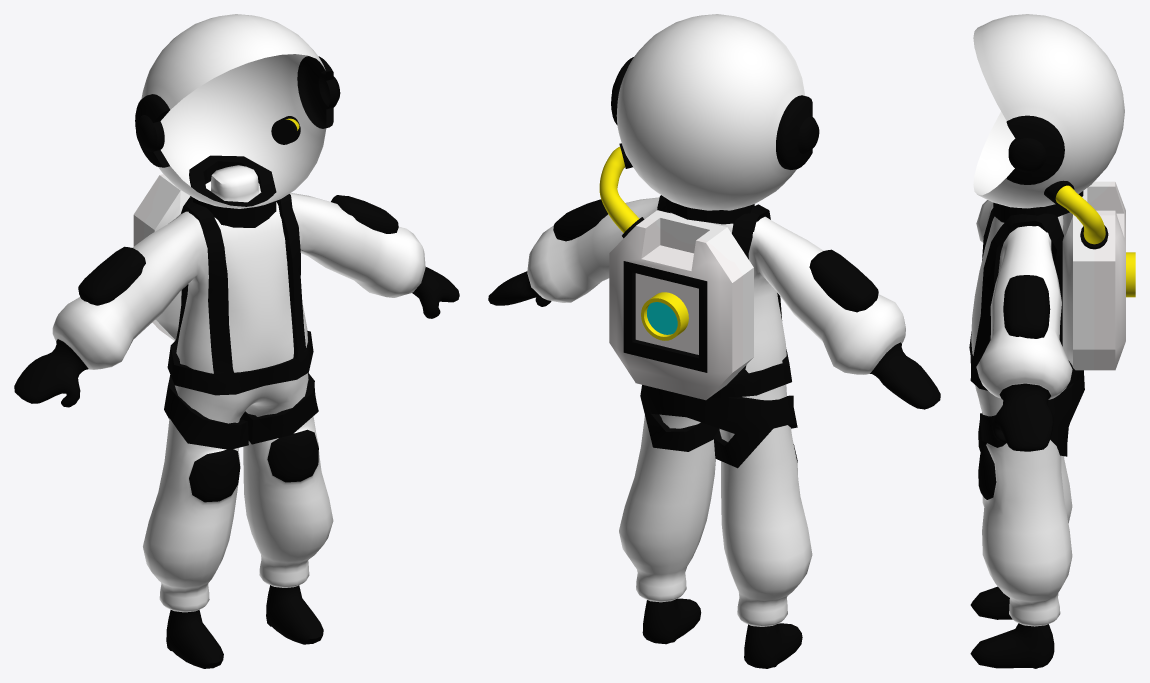
Rendered from maincharacterwithout glass.fbx.
3 renders of one model, left to right at view 1: azimuth 30°, elevation 25°; view 2: azimuth 150°, elevation 25°; view 3: azimuth 270°, elevation 25°, orthographic.
Parts seen in each view (by area): view 1: Body, Backpack; view 2: Body, Backpack; view 3: Body, Backpack.
Boxes of the visible parts, box(x1,y1,x2,y2) form: Body: box(14, 14, 459, 668); Backpack: box(133, 116, 300, 340); Body: box(488, 14, 940, 668); Backpack: box(599, 143, 753, 400); Body: box(969, 14, 1124, 668); Backpack: box(1044, 180, 1135, 370).
Size of the model in its own units: 476 by 644 by 157.
